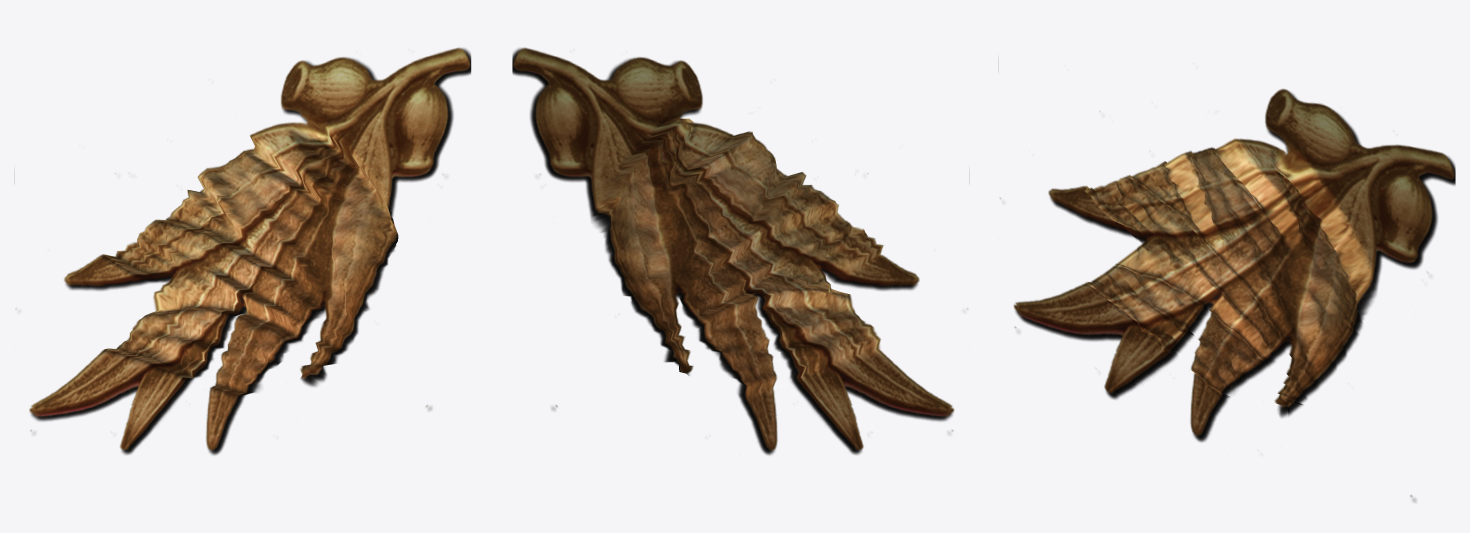
File: br139r-gum-leaves-3d.glb
3 views of the same model, side by side, from view 1: azimuth 30°, elevation 25°; view 2: azimuth 150°, elevation 25°; view 3: azimuth 330°, elevation 25° (orthographic).
Bounding box in the file's own units: 1 × 0.8223 × 0.0494.
1 material, 1 textured.
